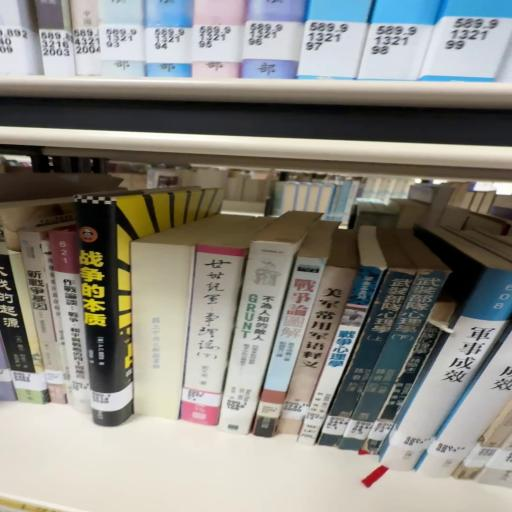backward: (132, 215, 249, 421)
book: (220, 216, 311, 438), (182, 247, 249, 429)
